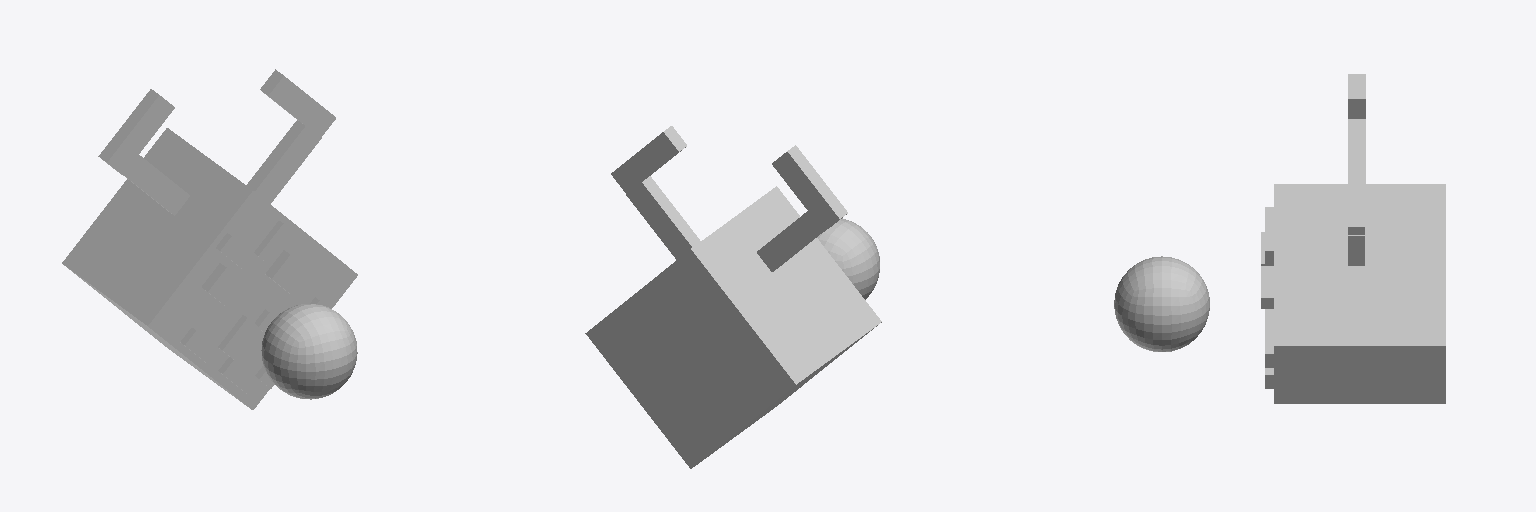
Rendered from SkullDemonBot.obj.
The picture shows the model from 3 angles: view 1: azimuth 30°, elevation 25°; view 2: azimuth 150°, elevation 25°; view 3: azimuth 270°, elevation 25°; orthographic projection.
Visible parts, largest first — view 1: Head, Fireball, RHorn2, LHorn1, LHorn2, RHorn1, LEye, REye, Mouth2, LEyebrow, REyebrow, Mouth1 (+1 smaller); view 2: Head, Fireball, RHorn2, LHorn1, LHorn2, RHorn1; view 3: Head, Fireball, LHorn2, RHorn2, LEye, LHorn1.
Part boxes in pixels (x1,y1,x2,y2): Head: (62, 128, 357, 409); Fireball: (261, 304, 357, 399); RHorn2: (98, 89, 174, 174); LHorn1: (246, 120, 321, 203); LHorn2: (260, 69, 335, 137); RHorn1: (123, 155, 189, 215); LEye: (265, 250, 311, 295); REye: (202, 263, 247, 308); Mouth2: (218, 315, 258, 359); LEyebrow: (254, 221, 294, 264); REyebrow: (216, 233, 256, 270); Mouth1: (180, 328, 220, 364); Head: (585, 186, 881, 468); Fireball: (817, 218, 879, 299); RHorn2: (772, 145, 847, 231); LHorn1: (626, 176, 700, 259); LHorn2: (611, 126, 686, 193); RHorn1: (757, 211, 823, 271); Head: (1274, 184, 1445, 403); Fireball: (1114, 256, 1209, 351); LHorn2: (1348, 146, 1364, 234); RHorn2: (1348, 74, 1365, 118); LEye: (1261, 266, 1273, 308); LHorn1: (1348, 235, 1364, 265).
Size of the model in its own units: 1.93 by 2.43 by 2.41.